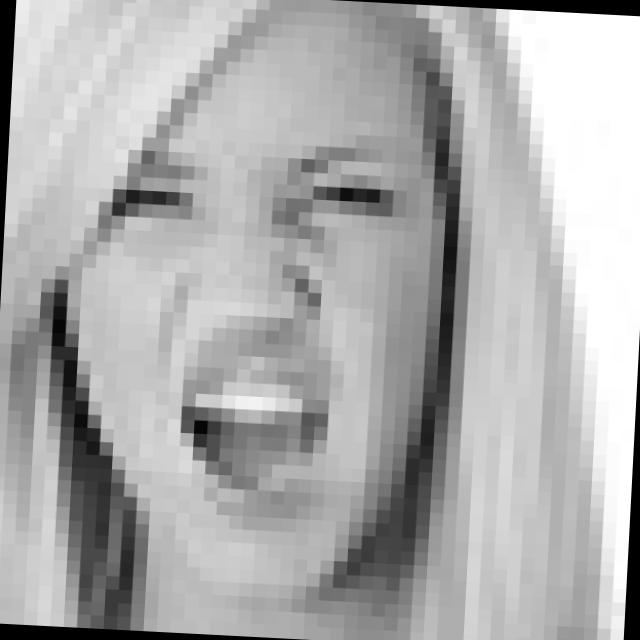angry: (94, 120, 421, 525)
